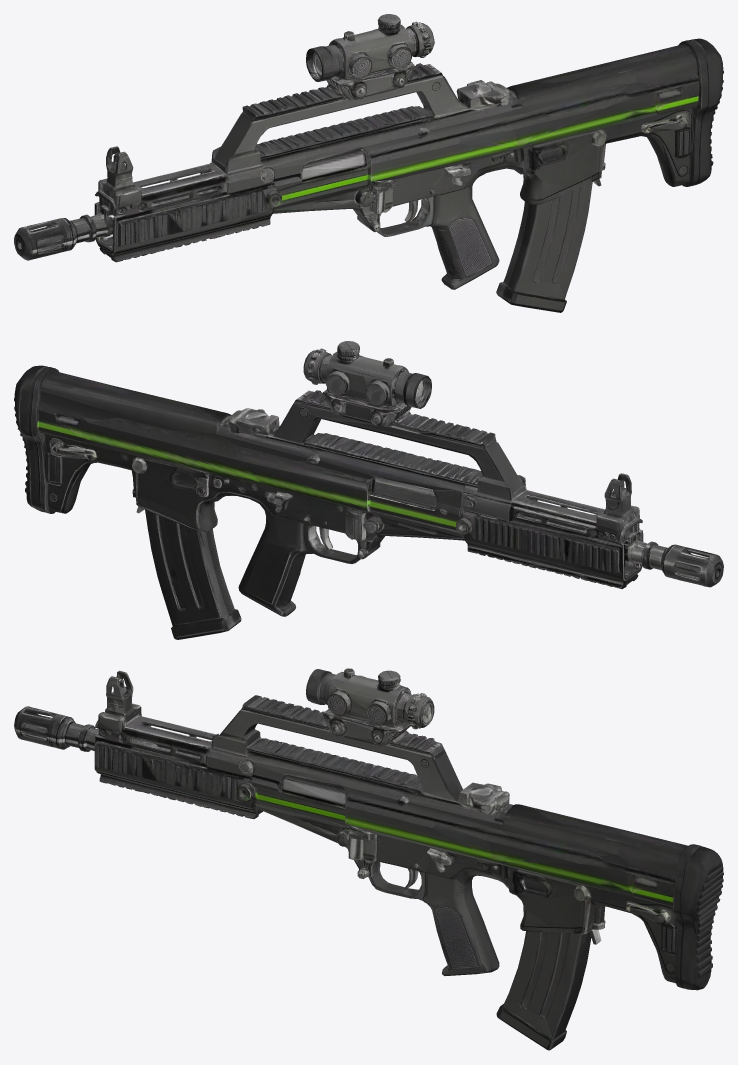
File: gun_burst.glb
3 renders of one model, top to bottom at view 1: azimuth 30°, elevation 25°; view 2: azimuth 150°, elevation 25°; view 3: azimuth 330°, elevation 25°, orthographic.
Visible parts, largest first — view 1: Mesh_0; view 2: Mesh_0; view 3: Mesh_0.
Boxes of the visible parts, x1,y1,x2,y2 form: Mesh_0: (14,14,723,312); Mesh_0: (14,341,723,639); Mesh_0: (14,668,723,1050).
Size of the model in its own units: 1.9 by 0.8619 by 0.1527.
1 material, 1 textured.
